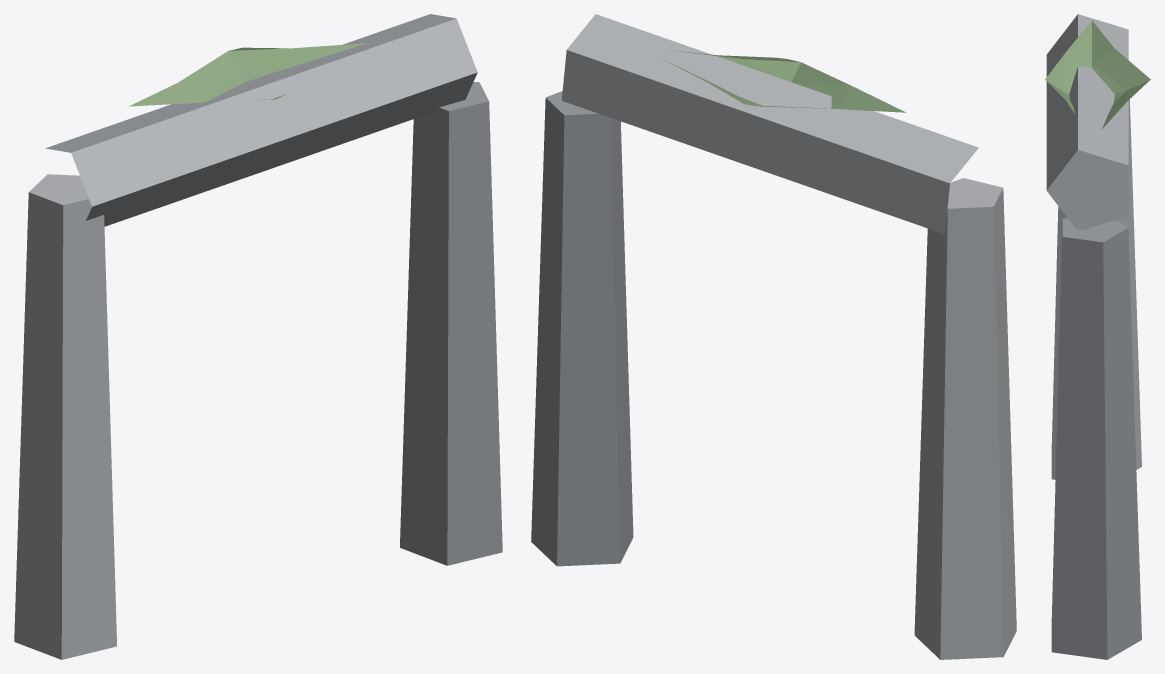
File: arch_rock_v13.glb
The picture shows the model from 3 angles, left to right: view 1: azimuth 30°, elevation 25°; view 2: azimuth 150°, elevation 25°; view 3: azimuth 270°, elevation 25°; orthographic projection. The views are drawn at different scales.
Visible parts, largest first — view 1: lod0; view 2: lod0; view 3: lod0.
Boxes of the visible parts, box(x1,y1,x2,y2) form: lod0: box(14, 14, 502, 659); lod0: box(531, 14, 1016, 659); lod0: box(1045, 14, 1150, 659).
Size of what is drawn, in the model's own units: 2.22 by 2.4 by 0.4656.
